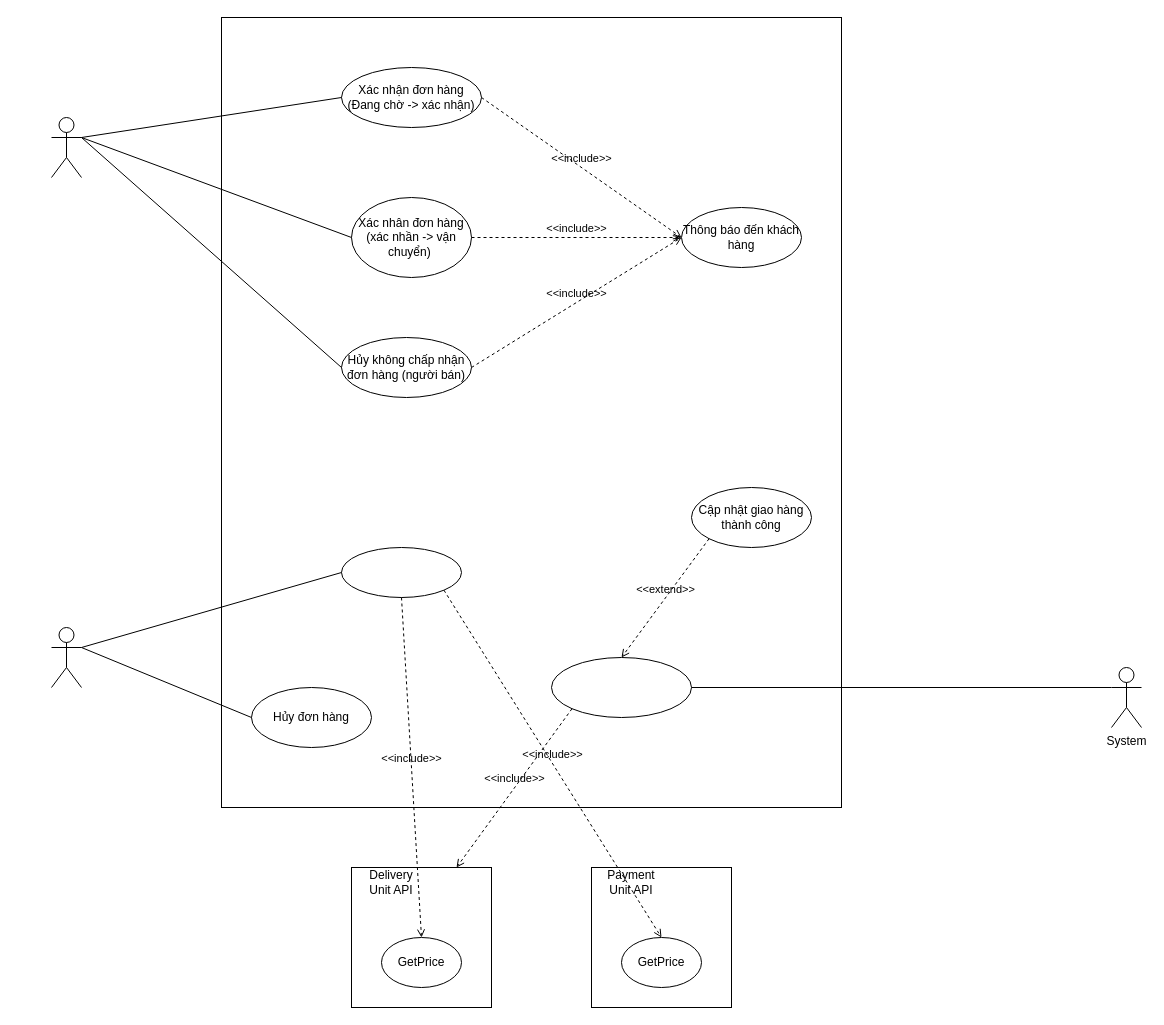
The diagram is 1164 pixels wide and 1025 high, and some of its shapes have lost their labels. Here are the shapes that lost their labels. From the top down, the centre of each, then its label:
At point (66, 147): "User (staff)".
At point (401, 572): "Tạo đơn hàng".
At point (66, 657): "User (khách hàng)".
At point (621, 687): "Tự động tracking vị trí đơn hàng".
